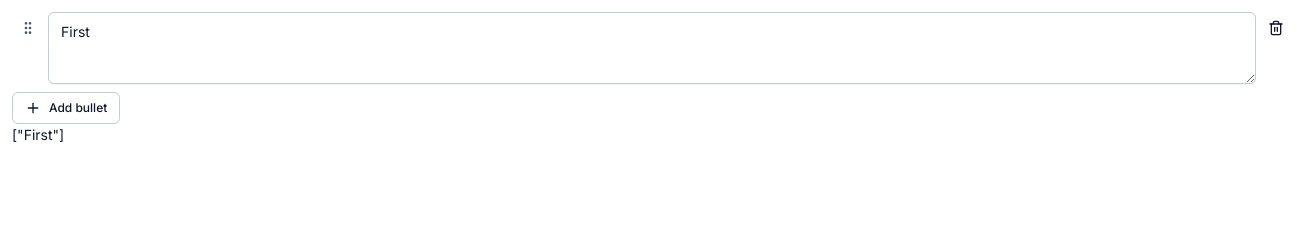
Test case: StringListEditor › adds, edits and removes bullets
The width and height of the screenshot is (1304, 240).
Click the button "Add bullet": (66, 108) [12, 92, 120, 124]
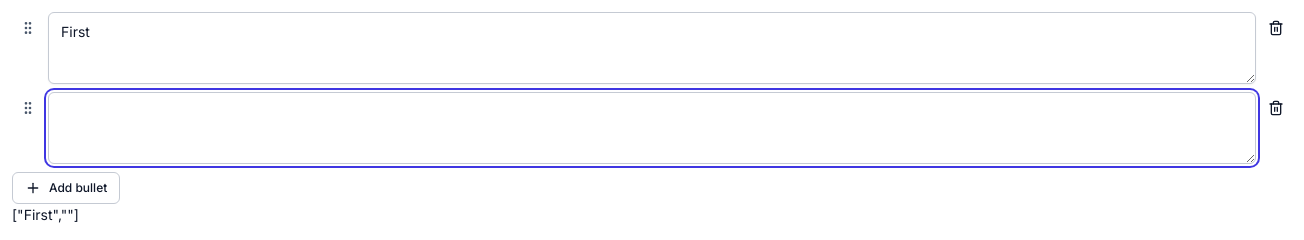
In the text box named "Bullet 2": (652, 128) [48, 92, 1256, 164], type "Second"
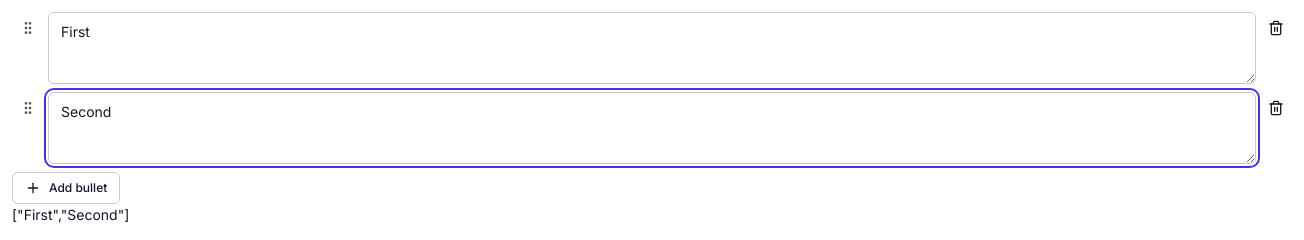
Check: the text with test id "bullets" reads "[\"First\",\"Second\"]", box [12, 206, 129, 223]
Click the button named "Remove bullet 1": (1276, 28) [1260, 12, 1292, 44]
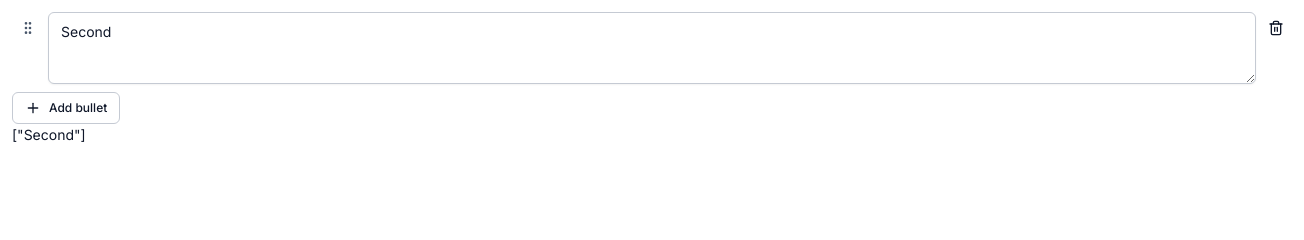
Check: the button named "Reorder Bullet 1" is shown, box [12, 12, 44, 44]
Check: the text with test id "bullets" reads "[\"Second\"]", box [12, 126, 86, 143]
